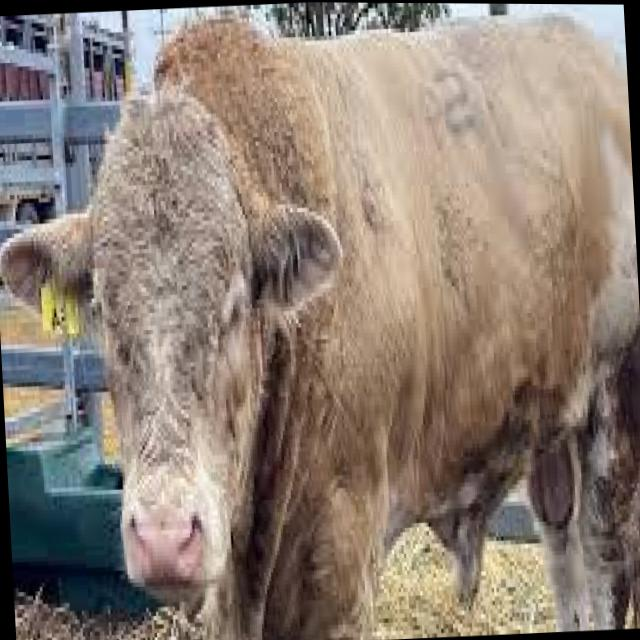cowFace: (0, 3, 358, 640)
